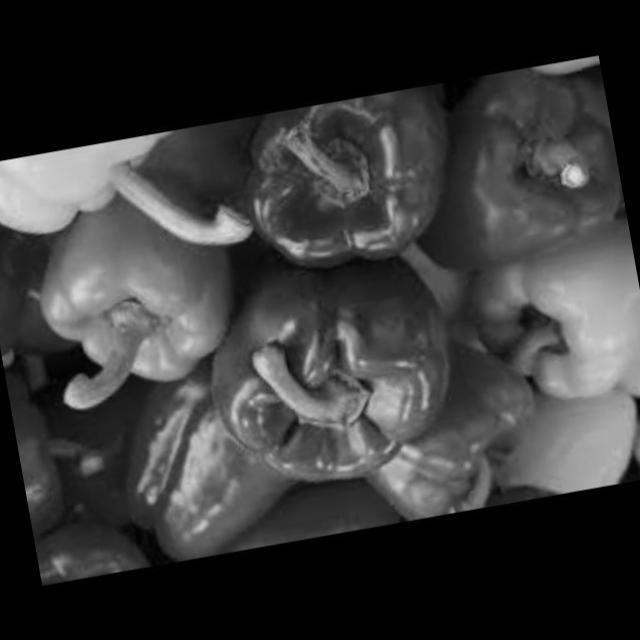bell pepper: (140, 258, 468, 507), (205, 85, 471, 298), (385, 56, 631, 280), (17, 185, 245, 412), (100, 352, 310, 570), (328, 348, 564, 532), (439, 236, 640, 441), (0, 128, 206, 266), (2, 344, 120, 546), (30, 489, 164, 586), (548, 396, 640, 495)
